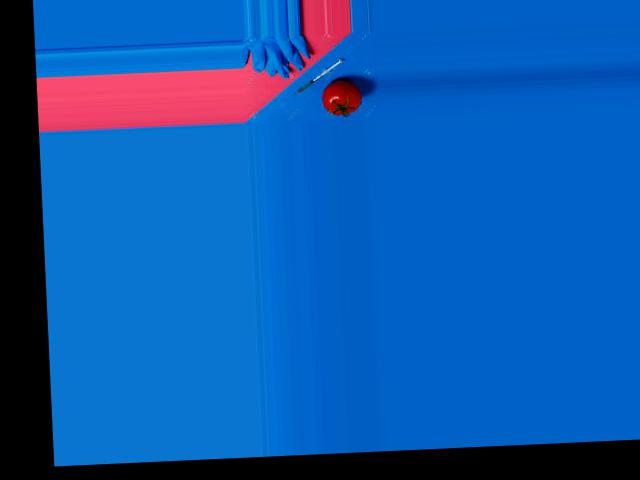tomato: (321, 78, 361, 115)
